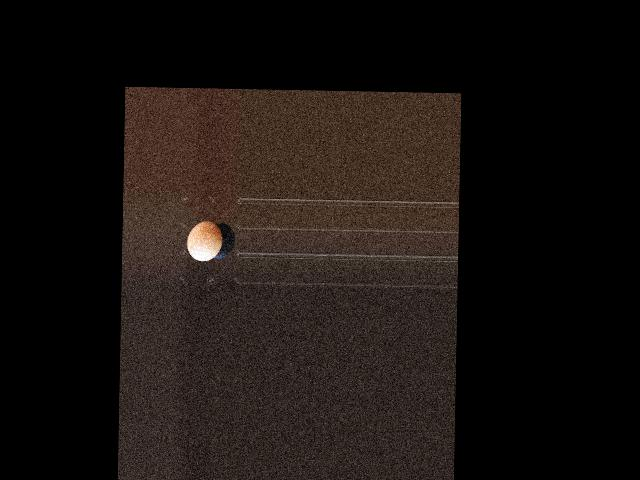egg: (186, 220, 223, 261)
